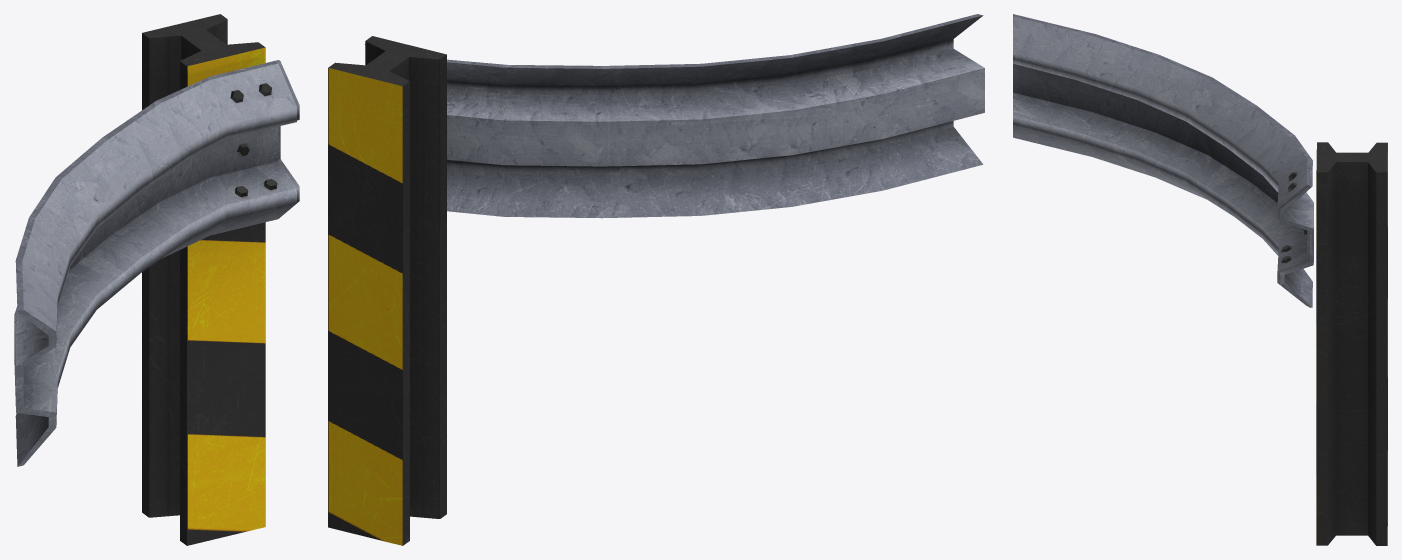
File: Gen_hywy_barricade_03.fbx
3 renders of one model, left to right at view 1: azimuth 30°, elevation 25°; view 2: azimuth 150°, elevation 25°; view 3: azimuth 270°, elevation 25°, orthographic. The views are drawn at different scales.
Visible parts, largest first — view 1: Gen_hywy_barricade_03_LOD0; view 2: Gen_hywy_barricade_03_LOD0; view 3: Gen_hywy_barricade_03_LOD0.
Part boxes in pixels (x1,y1,x2,y2): Gen_hywy_barricade_03_LOD0: (14, 14, 299, 545); Gen_hywy_barricade_03_LOD0: (328, 14, 984, 545); Gen_hywy_barricade_03_LOD0: (1013, 14, 1387, 545).
Size of what is drawn, in the model's own units: 1.09 by 1.1 by 1.
1 material, 1 textured.
